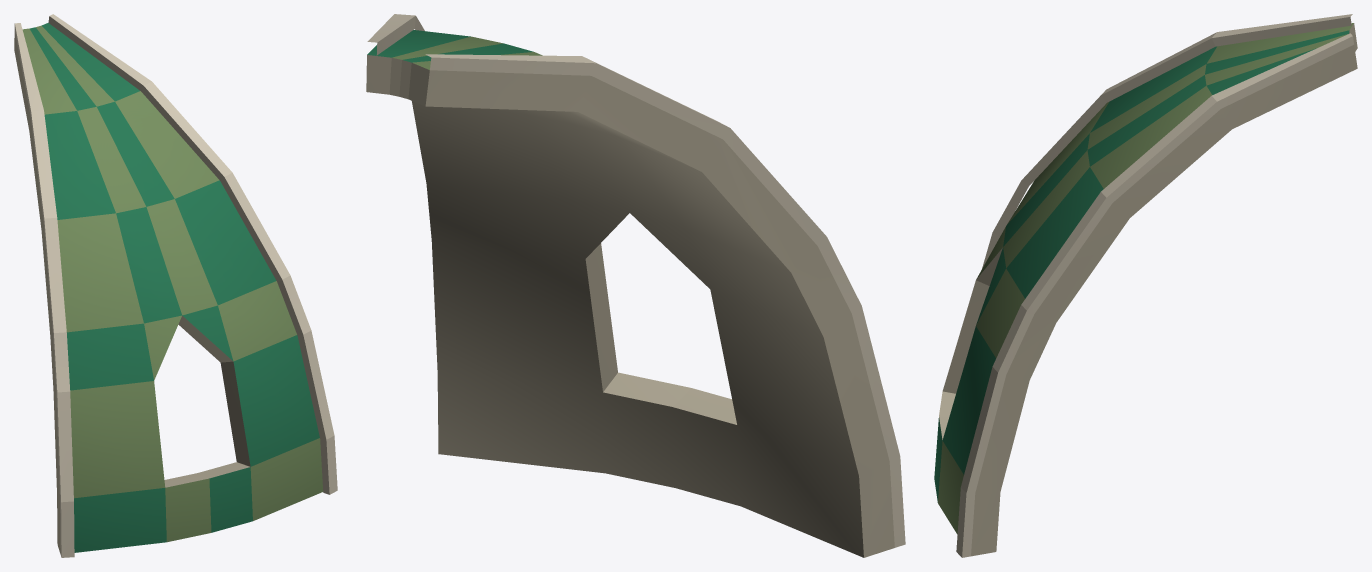
Rendered from dome.panel_8_window.green.glb.
3 renders of one model, left to right at view 1: azimuth 30°, elevation 25°; view 2: azimuth 150°, elevation 25°; view 3: azimuth 270°, elevation 25°, orthographic. The views are drawn at different scales.
Parts seen in each view (by area): view 1: dome_panel_8_window_green; view 2: dome_panel_8_window_green; view 3: dome_panel_8_window_green.
Boxes of the visible parts, x1,y1,x2,y2 form: dome_panel_8_window_green: (14, 14, 337, 557); dome_panel_8_window_green: (366, 14, 905, 557); dome_panel_8_window_green: (934, 14, 1357, 557).
Size of what is drawn, in the model's own units: 2.73 by 3.63 by 3.08.
